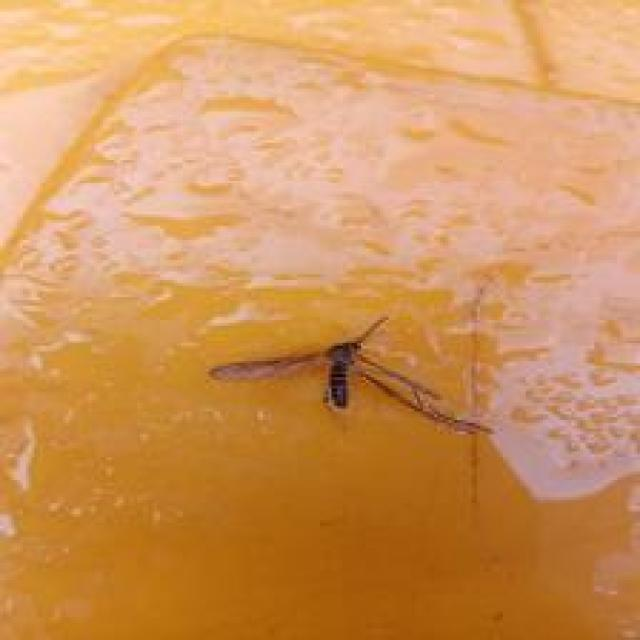Culex: (206, 313, 494, 438)
